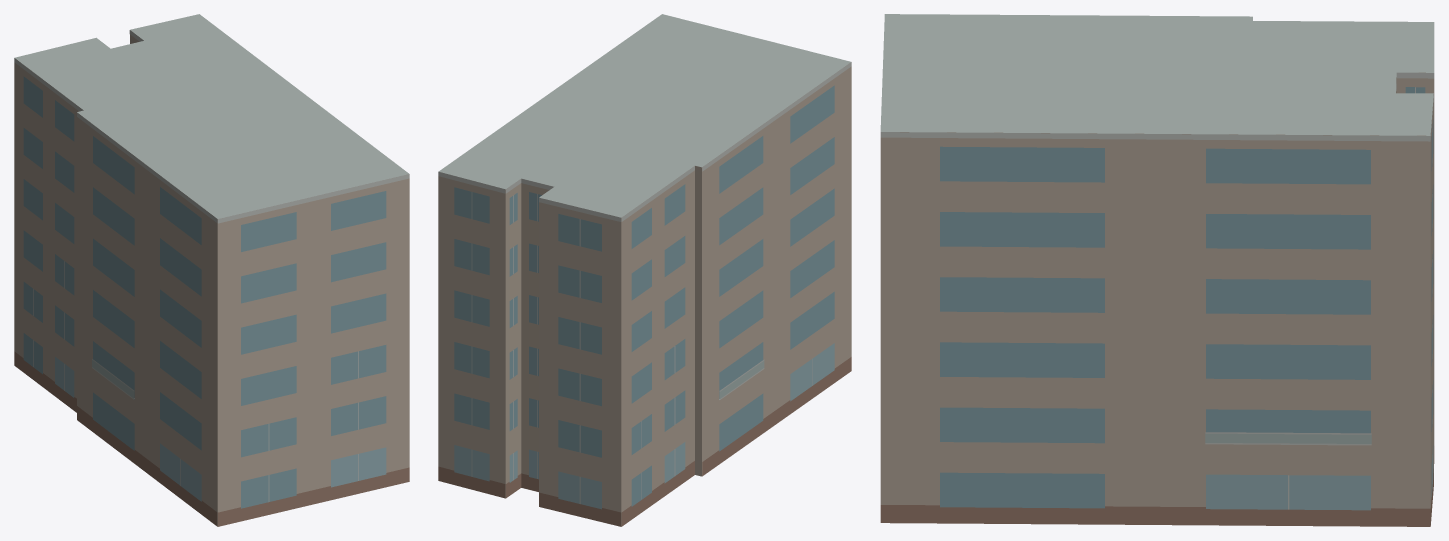
File: survey-upis-32735541.glb
3 renders of one model, left to right at view 1: azimuth 30°, elevation 25°; view 2: azimuth 150°, elevation 25°; view 3: azimuth 270°, elevation 25°, orthographic. The views are drawn at different scales.
Parts seen in each view (by area): view 1: survey-upis-32735541.tmp; view 2: survey-upis-32735541.tmp; view 3: survey-upis-32735541.tmp.
Part boxes in pixels (x1,y1,x2,y2): survey-upis-32735541.tmp: (14, 14, 409, 526); survey-upis-32735541.tmp: (438, 14, 851, 526); survey-upis-32735541.tmp: (880, 14, 1434, 526).
Bounding box in the file's own units: 11.23 × 16.8 × 21.57.
